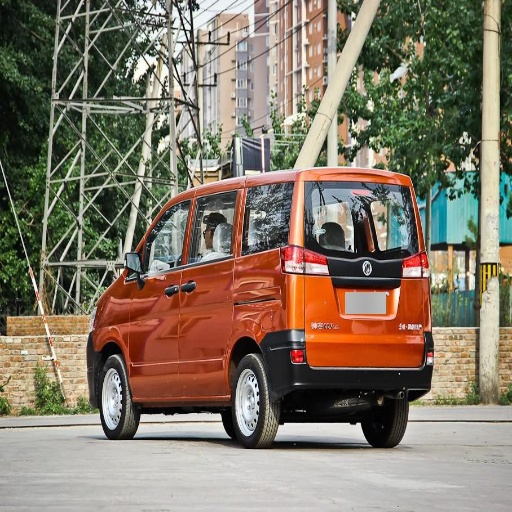back_bumper: (288, 345, 430, 397)
back_glass: (360, 6, 411, 70)
back_left_door: (181, 193, 232, 394)
trunk: (227, 244, 427, 394)
